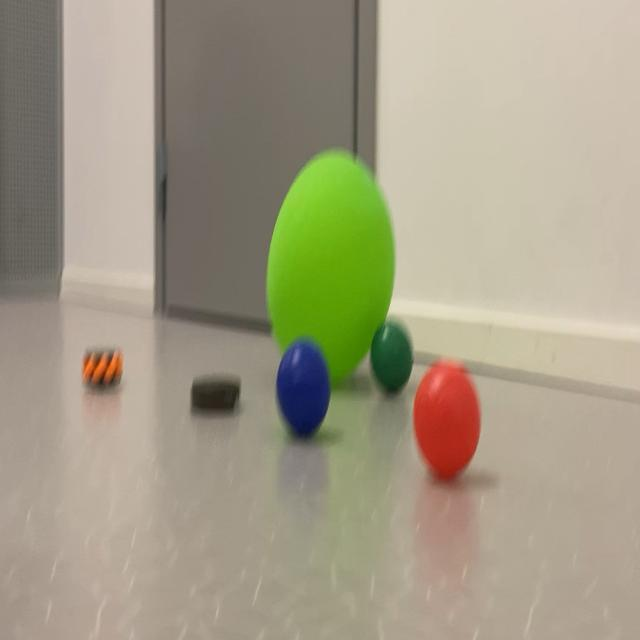blue ball: (276, 340, 334, 439)
green ball: (373, 319, 409, 397)
red ball: (418, 366, 486, 480)
